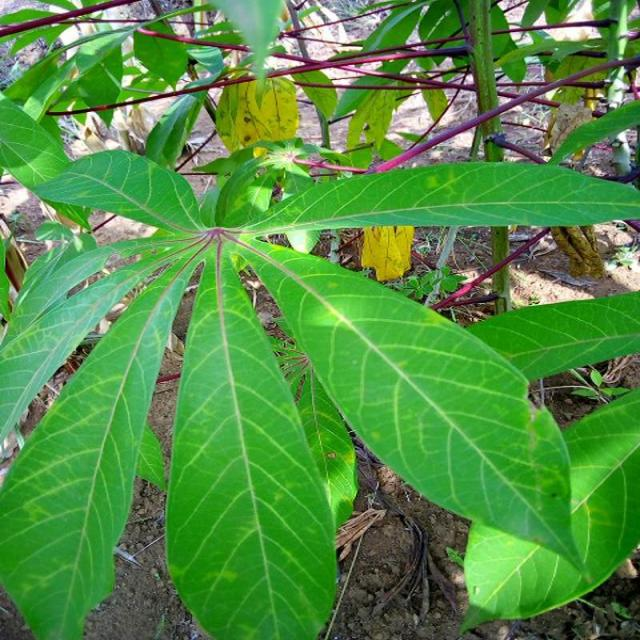cassava leaf: (230, 233, 584, 570), (0, 252, 190, 638), (164, 235, 338, 638), (460, 385, 638, 634)
